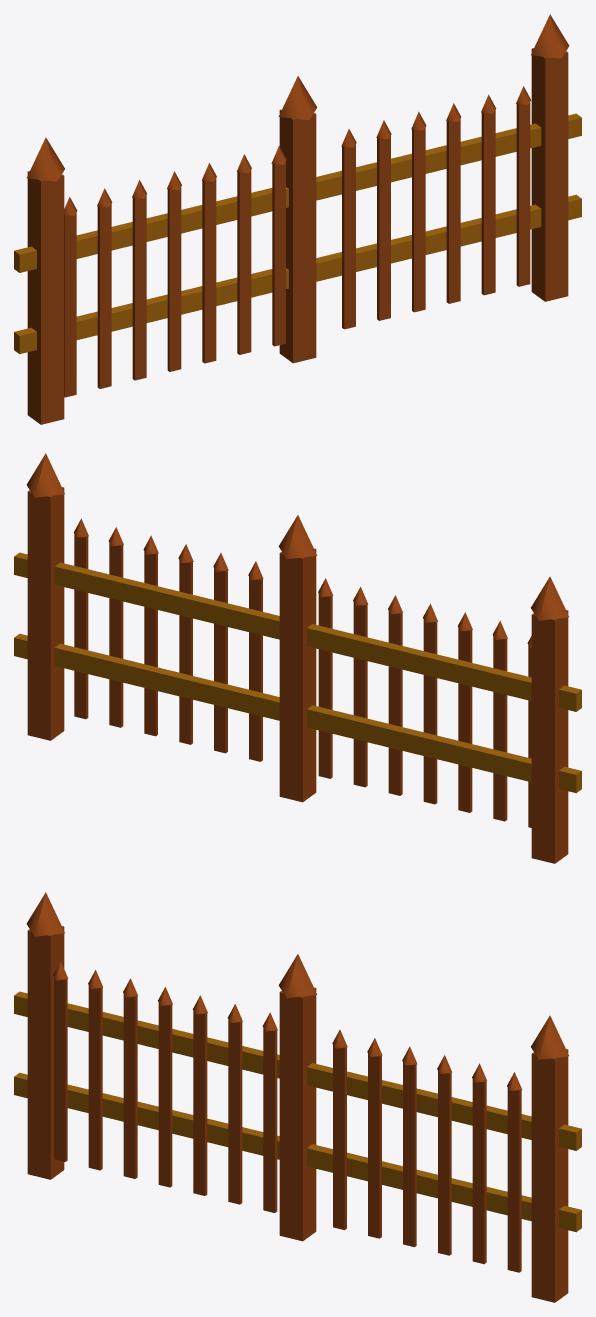
The model's file is fence_wood.glb.
3 renders of one model, top to bottom at view 1: azimuth 30°, elevation 25°; view 2: azimuth 150°, elevation 25°; view 3: azimuth 330°, elevation 25°, orthographic.
Bounding box in the file's own units: 2.52 × 1.2 × 0.174.
